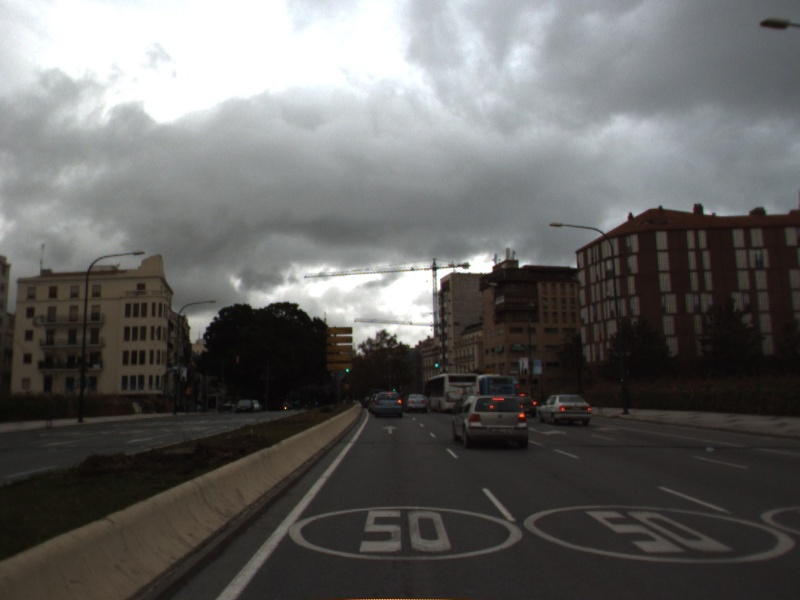RIGHT: (590, 424, 626, 436)
STRAIGHT: (379, 423, 400, 436)
STRAIGHT_RIGHT: (527, 425, 570, 437)
